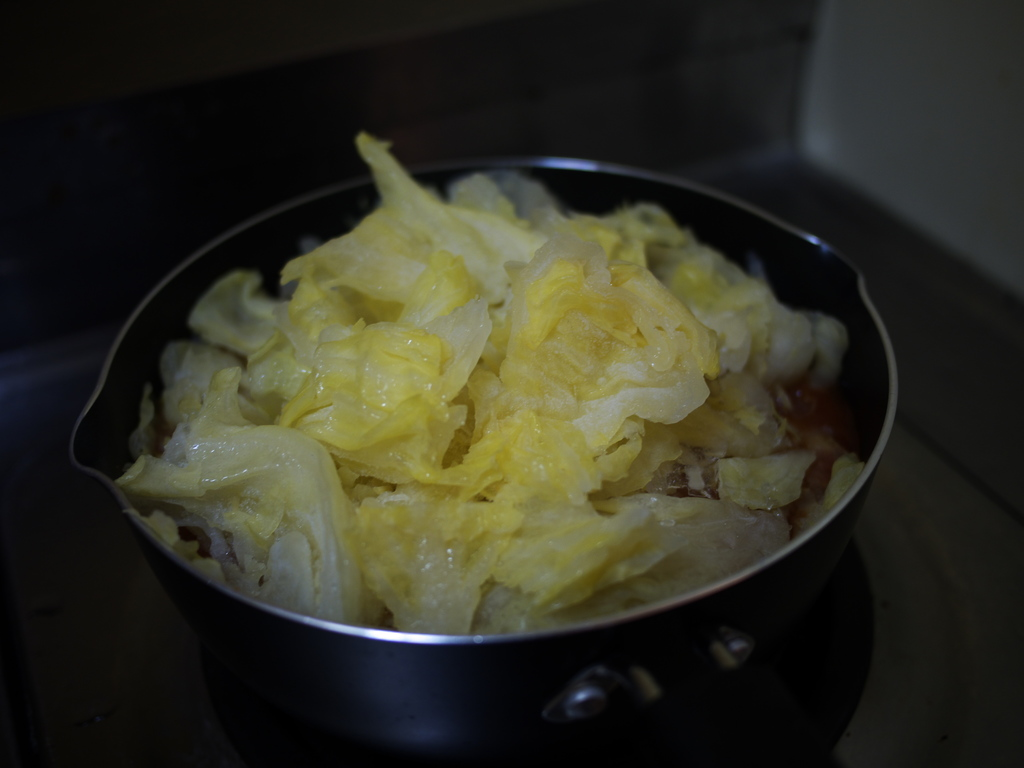Cabbage: (115, 129, 863, 636)
